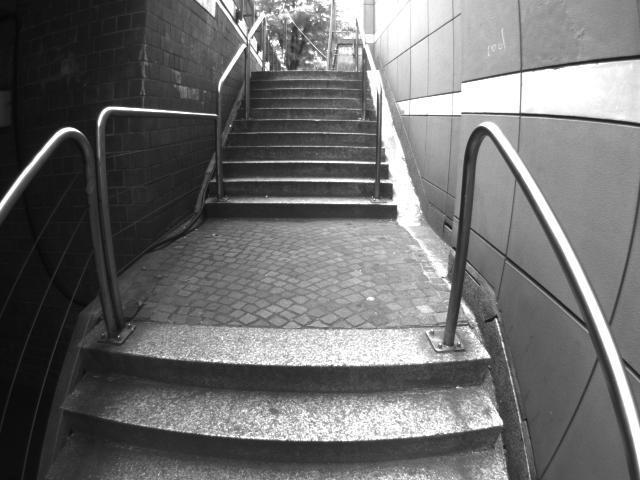Escaleras: (59, 314, 511, 479), (203, 66, 405, 221)
